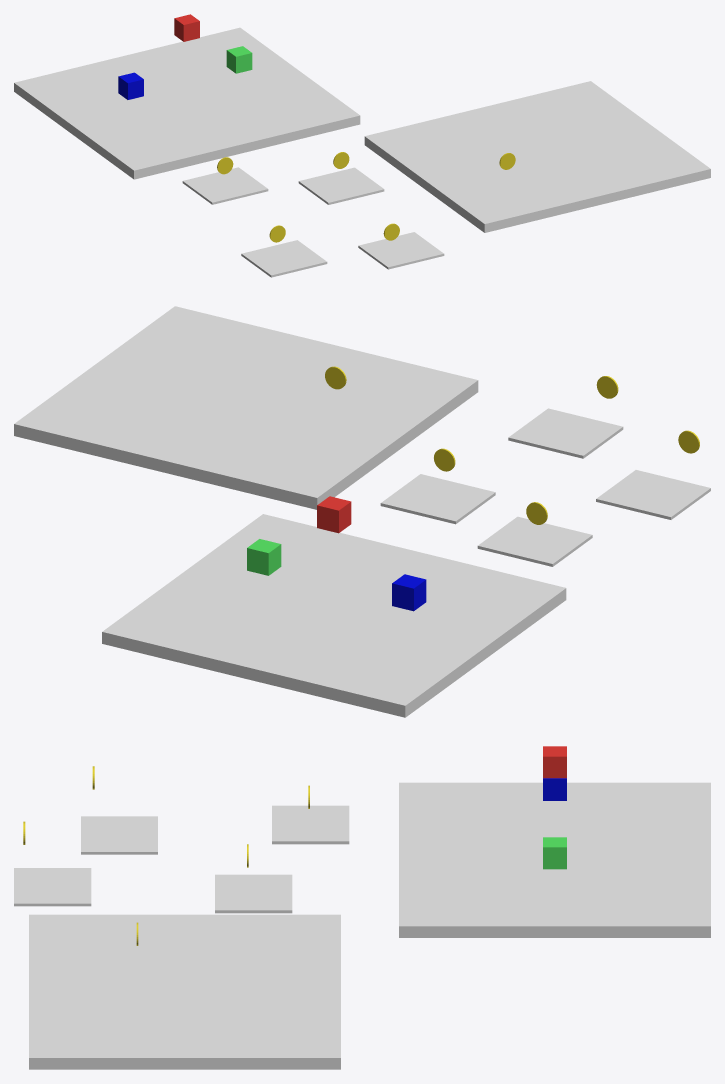
File: island.gltf
3 views of the same model, one above another, from view 1: azimuth 30°, elevation 25°; view 2: azimuth 150°, elevation 25°; view 3: azimuth 270°, elevation 25° (orthographic). The views are drawn at different scales.
Parts seen in each view (by area): view 1: Platform.001, Platform.000, Platform.002, Platform.003, Platform.004, Platform.005, Enemy.001, Player, LevelGate.001; view 2: Platform.001, Platform.000, Platform.002, Platform.004, Platform.003, Platform.005, Enemy.001, Player, LevelGate.001; view 3: Platform.001, Platform.000, Platform.002, Platform.005, Platform.004, Platform.003, Player, Enemy.001, LevelGate.001.
Part boxes in pixels (x1=…): Platform.001: x1=364, y1=81, x2=710, y2=232; Platform.000: x1=14, y1=27, x2=360, y2=179; Platform.002: x1=298, y1=167, x2=384, y2=204; Platform.003: x1=241, y1=240, x2=327, y2=277; Platform.004: x1=358, y1=232, x2=444, y2=269; Platform.005: x1=182, y1=167, x2=268, y2=204; Enemy.001: x1=226, y1=46, x2=252, y2=73; Player: x1=174, y1=14, x2=199, y2=41; LevelGate.001: x1=118, y1=72, x2=143, y2=99; Platform.001: x1=14, y1=306, x2=478, y2=509; Platform.000: x1=102, y1=514, x2=566, y2=717; Platform.002: x1=380, y1=474, x2=495, y2=524; Platform.004: x1=508, y1=408, x2=623, y2=458; Platform.003: x1=596, y1=470, x2=710, y2=519; Platform.005: x1=477, y1=516, x2=592, y2=566; Enemy.001: x1=247, y1=539, x2=281, y2=575; Player: x1=317, y1=496, x2=351, y2=533; LevelGate.001: x1=392, y1=574, x2=426, y2=611; Platform.001: x1=29, y1=914, x2=340, y2=1069; Platform.000: x1=399, y1=782, x2=710, y2=937; Platform.002: x1=215, y1=874, x2=292, y2=913; Platform.005: x1=272, y1=805, x2=349, y2=844; Platform.004: x1=14, y1=868, x2=91, y2=906; Platform.003: x1=81, y1=816, x2=157, y2=854; Player: x1=543, y1=746, x2=566, y2=778; Enemy.001: x1=543, y1=837, x2=566, y2=869; LevelGate.001: x1=543, y1=778, x2=566, y2=800.
Bounding box in the file's own units: 26.84 × 5.92 × 28.72.
